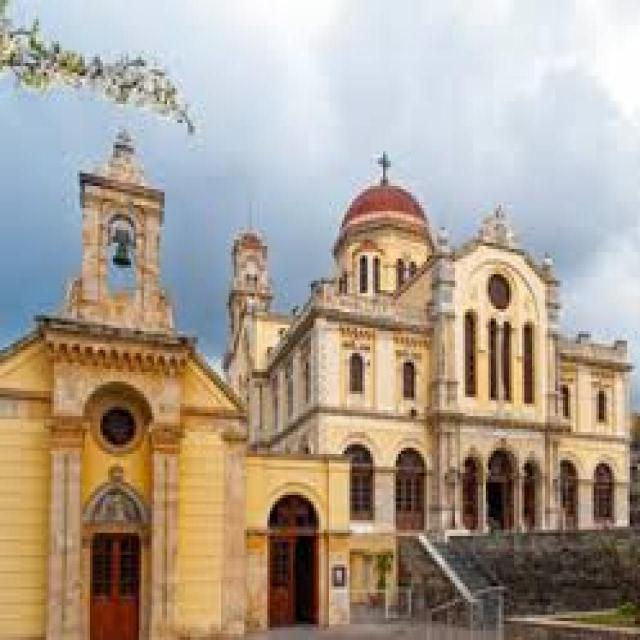Agios Minas: (1, 106, 640, 640)
